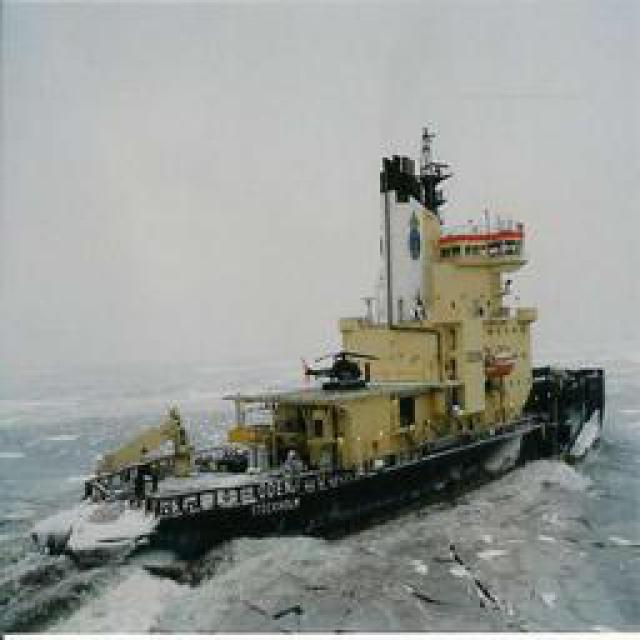Ship: (40, 151, 606, 556)
